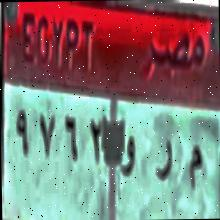2: (88, 116, 104, 170)
6: (62, 109, 79, 175)
7: (38, 109, 56, 168)
9: (14, 100, 31, 170)
meem: (186, 135, 202, 204)
raa: (154, 120, 174, 194)
waw: (120, 131, 136, 187)
